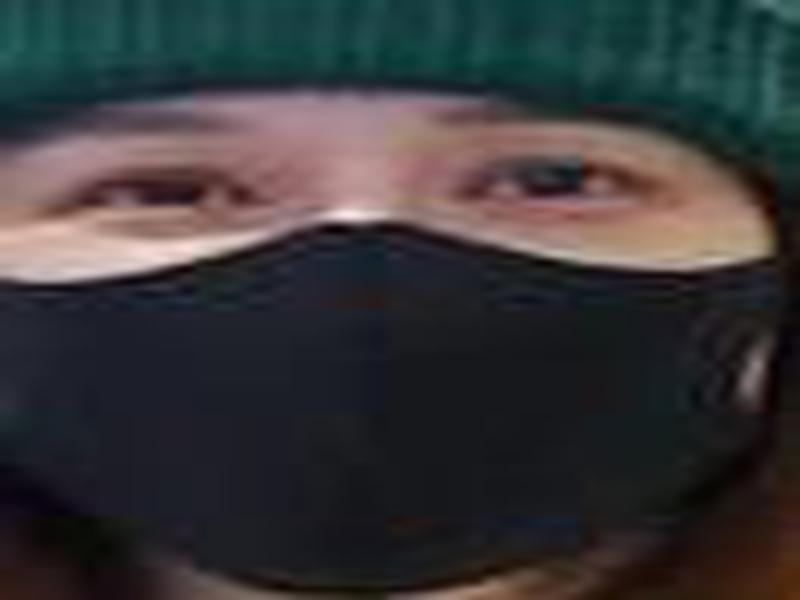with_mask: (1, 92, 772, 600)
